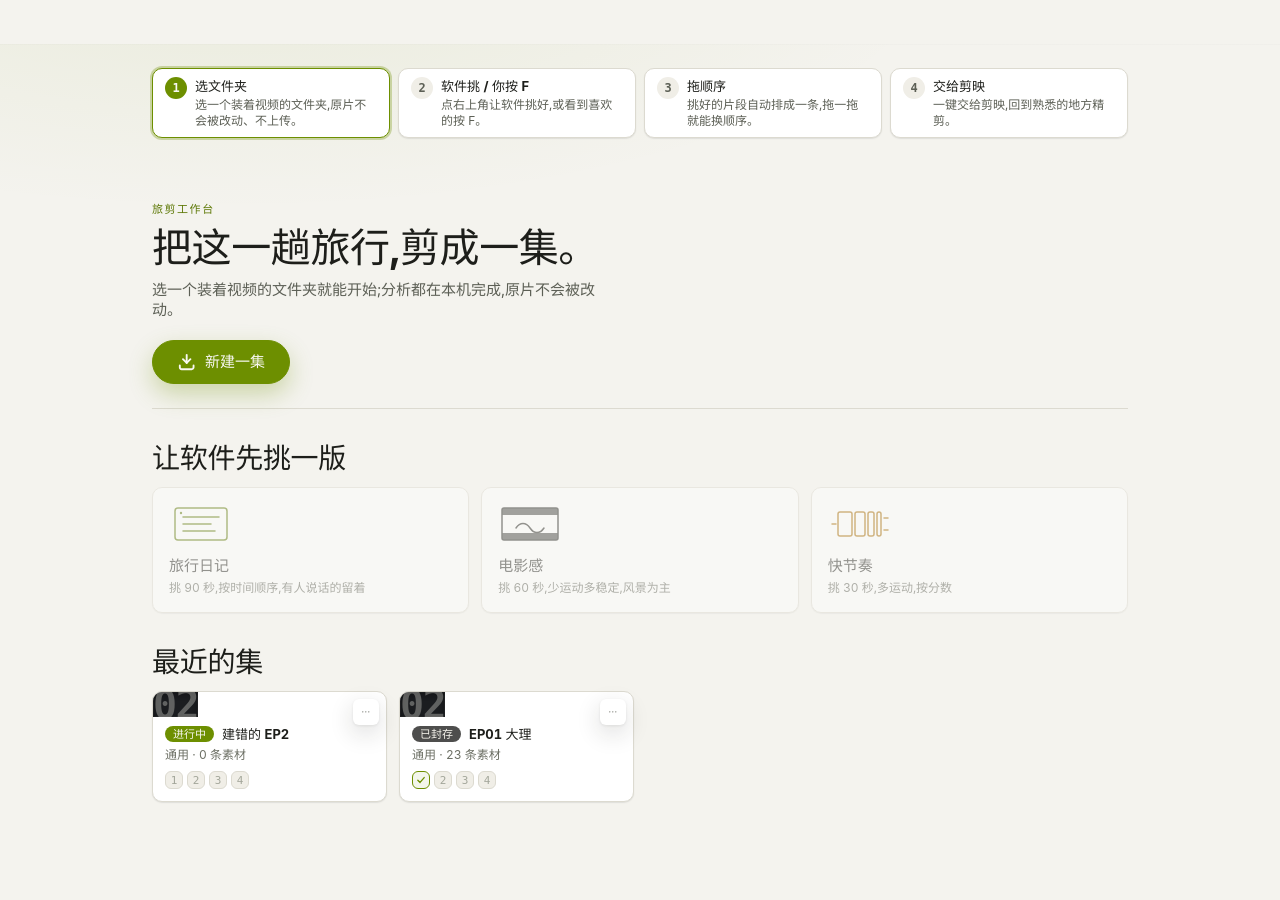
Test: HomeScreen · R15 集卡片「···」→「删除这一集」 › 确认后调 deleteEpisode、派发 tripcut:episode-changed、卡片列表按新数据刷新,首页留在原地
The image size is (1280, 900).
Click the button named "集操作 · 建错的 EP2".
click(366, 712)  # box [353,699,379,725]
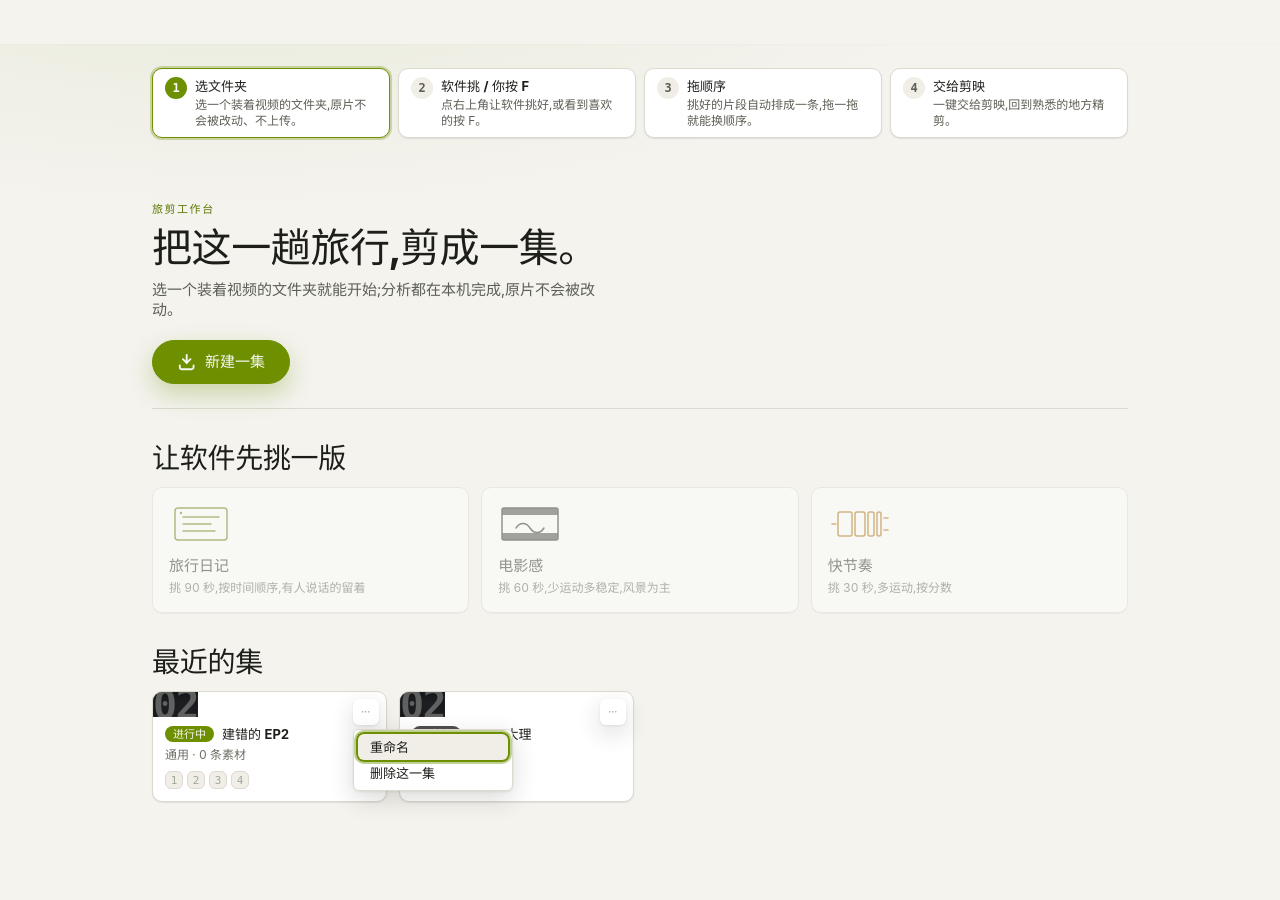
Click the menu item "删除这一集".
click(433, 773)  # box [358,760,508,786]
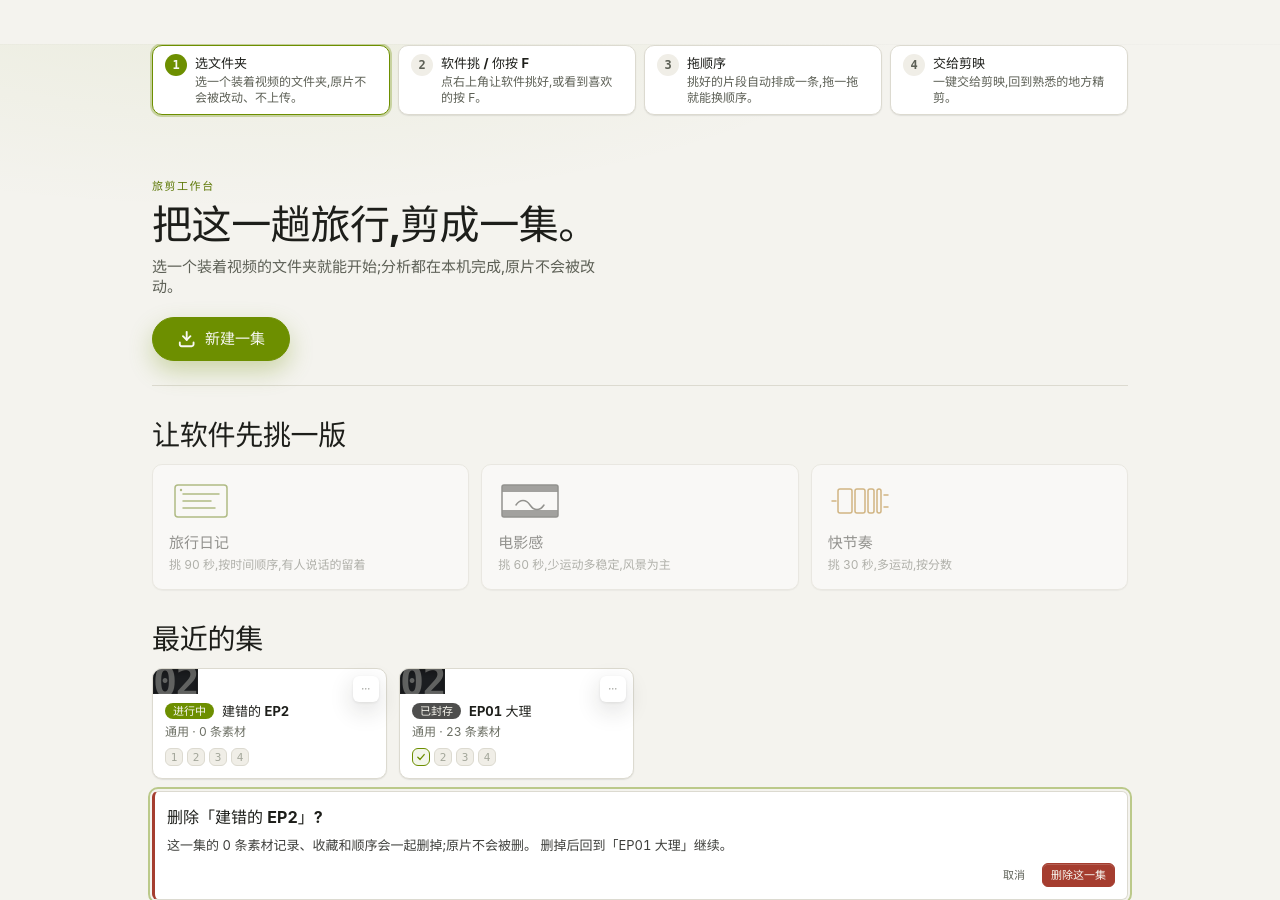
Click the button "删除这一集".
click(1078, 875)  # box [1042,863,1115,887]
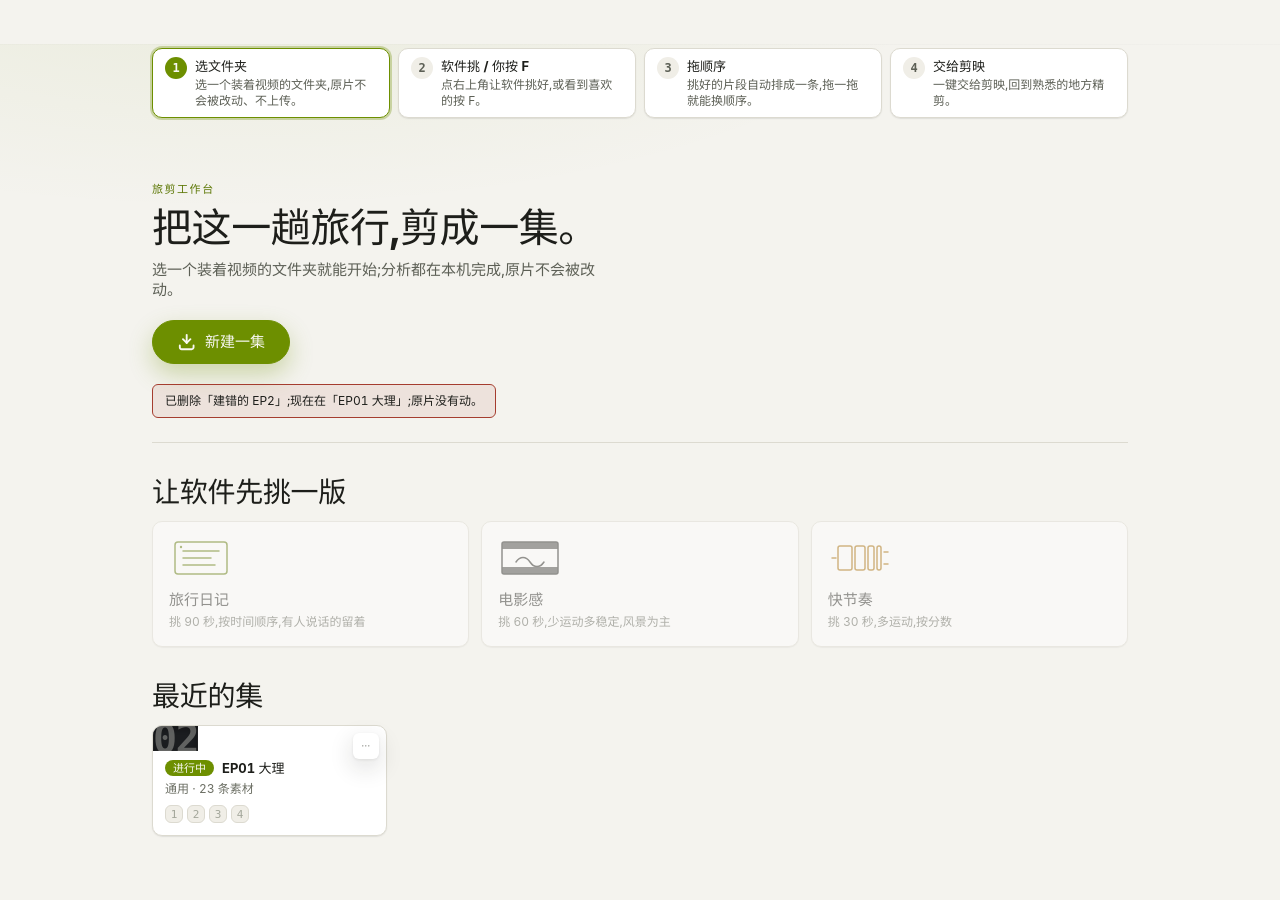
Expected: the button named "集操作 · EP01 大理" is shown, [353,733,379,759]
Expected: the dialog "确认删除集" is gone
